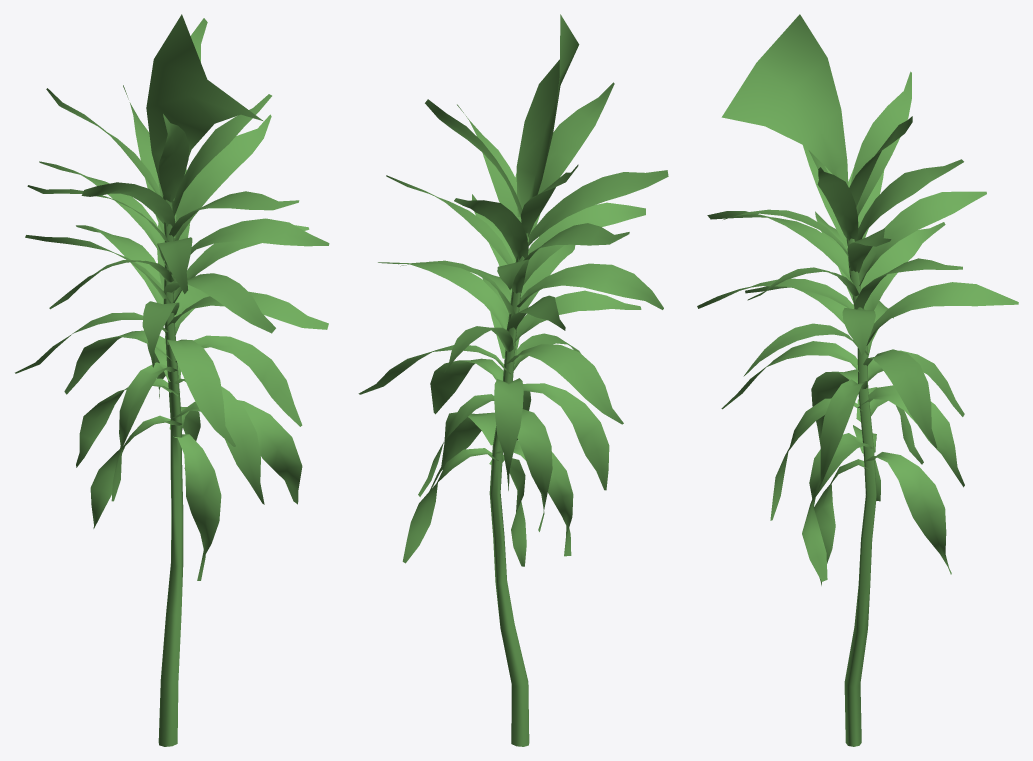
The model's file is SM_Dracaena_03.glb.
3 renders of one model, left to right at view 1: azimuth 30°, elevation 25°; view 2: azimuth 150°, elevation 25°; view 3: azimuth 270°, elevation 25°, orthographic. The views are drawn at different scales.
Visible parts, largest first — view 1: SM_Dracaena_03; view 2: SM_Dracaena_03; view 3: SM_Dracaena_03.
Boxes of the visible parts, <box> form: SM_Dracaena_03: <box>15,14,329,746</box>; SM_Dracaena_03: <box>358,14,668,746</box>; SM_Dracaena_03: <box>697,14,1018,746</box>.
Size of what is drawn, in the model's own units: 13.08 by 33.47 by 13.52.
